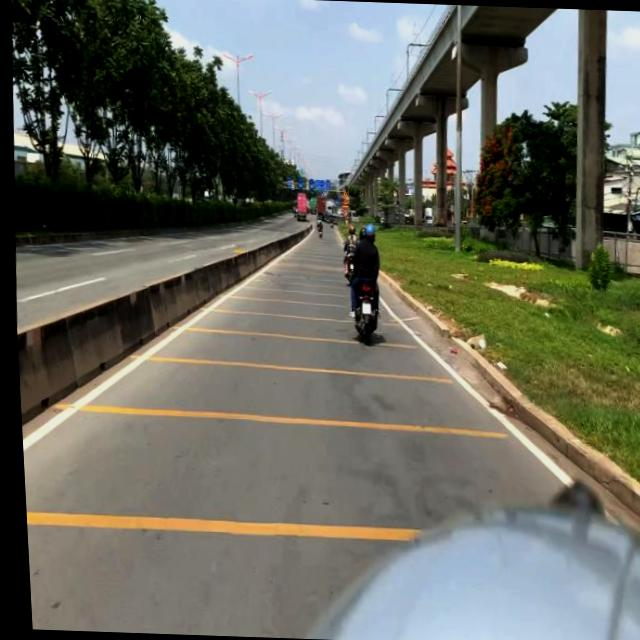Cam re phai: (340, 208, 346, 218)
